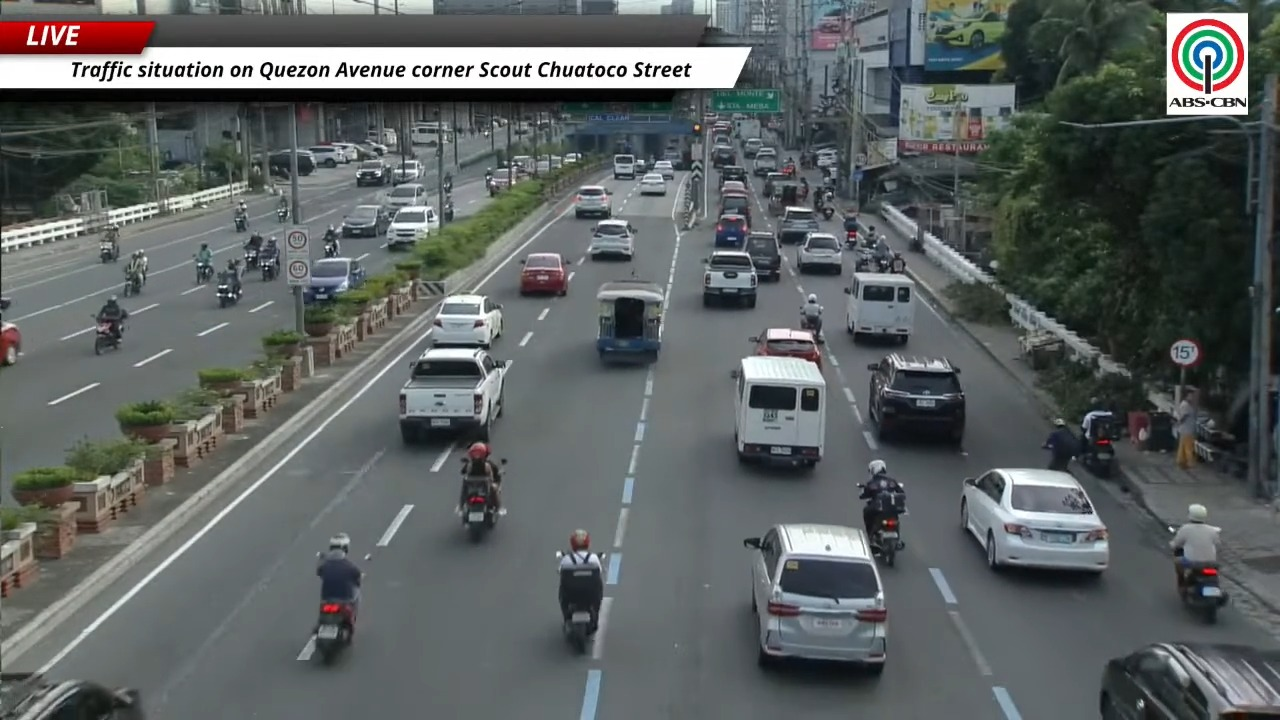car: (744, 523, 887, 674), (960, 468, 1108, 573), (1098, 642, 1279, 719), (868, 353, 966, 443), (432, 294, 502, 349), (750, 328, 822, 368), (304, 258, 366, 303), (932, 11, 1005, 49), (387, 205, 438, 250), (519, 253, 568, 295), (588, 219, 635, 260), (744, 231, 781, 281), (797, 232, 842, 273), (341, 205, 391, 237), (777, 206, 818, 244), (574, 185, 611, 218), (714, 214, 749, 248), (384, 183, 427, 209), (0, 319, 21, 365), (719, 193, 751, 223), (307, 145, 349, 167), (356, 160, 391, 186), (393, 160, 423, 184), (268, 150, 294, 177), (763, 172, 788, 197), (328, 142, 360, 161), (752, 152, 777, 176), (639, 173, 666, 195), (719, 165, 747, 185), (711, 145, 735, 168), (357, 141, 388, 157), (653, 159, 675, 179), (815, 150, 838, 168), (664, 148, 683, 169), (720, 180, 746, 195), (743, 139, 762, 157), (713, 129, 731, 145), (563, 153, 581, 164)
motorcycle: (561, 565, 602, 653), (869, 482, 907, 566), (1180, 564, 1228, 623), (458, 472, 498, 541), (313, 599, 355, 664), (314, 602, 354, 663), (1078, 416, 1116, 478), (871, 517, 904, 566), (1080, 438, 1115, 478), (91, 316, 119, 354), (1042, 443, 1071, 471), (216, 278, 241, 308), (801, 311, 824, 343), (123, 272, 142, 296), (260, 257, 277, 281), (99, 240, 117, 262), (855, 249, 872, 272), (197, 260, 213, 284), (243, 246, 259, 268), (441, 200, 454, 222), (874, 256, 890, 273), (324, 240, 338, 258), (844, 230, 857, 249), (234, 214, 247, 232), (819, 206, 834, 220), (276, 207, 289, 222), (443, 176, 452, 192)
truck: (399, 347, 508, 444), (0, 673, 145, 719), (703, 250, 758, 307), (734, 118, 762, 141)
